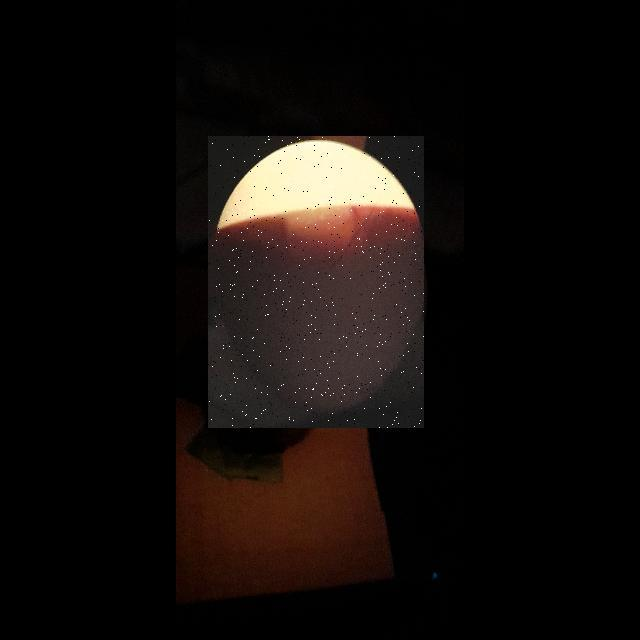Fertile: (208, 136, 424, 428)
